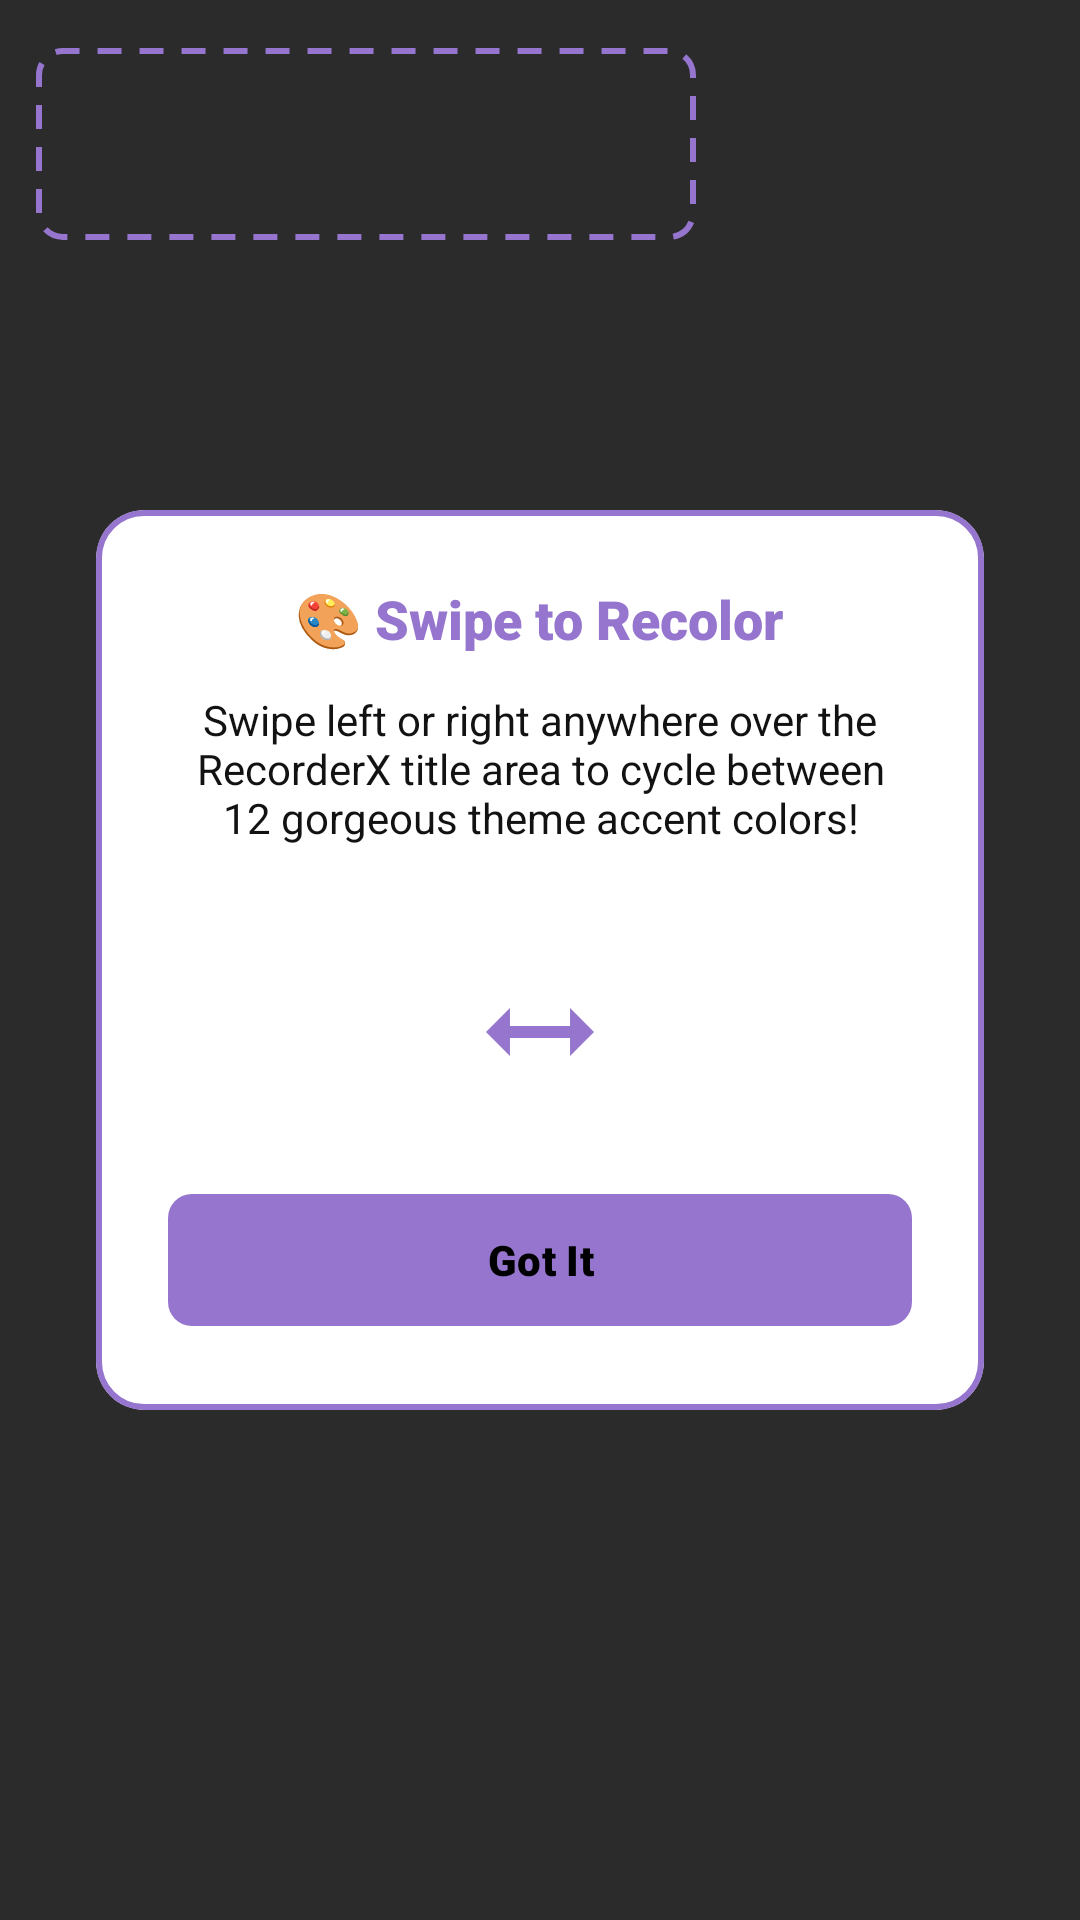

Icon click points for this 1080 × 1920 phone screenshot, format (x,y):
swipe arrows: (540,1032)
